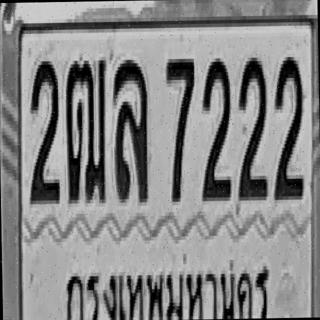A18: (64, 57, 108, 203)
A36: (112, 56, 149, 202)
N02: (27, 57, 60, 204), (235, 54, 268, 200), (200, 54, 232, 201), (272, 53, 304, 200)
N07: (165, 55, 196, 202)
P04: (54, 246, 272, 320)
